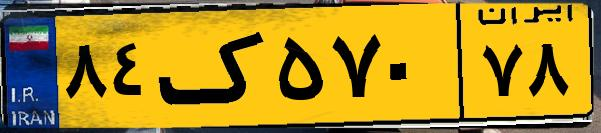0: (385, 28, 445, 110)
4: (110, 28, 158, 98)
5: (270, 28, 330, 110)
7: (330, 28, 385, 110), (475, 38, 525, 113)
8: (57, 26, 110, 100), (525, 38, 570, 115)
ک: (158, 12, 270, 120)
